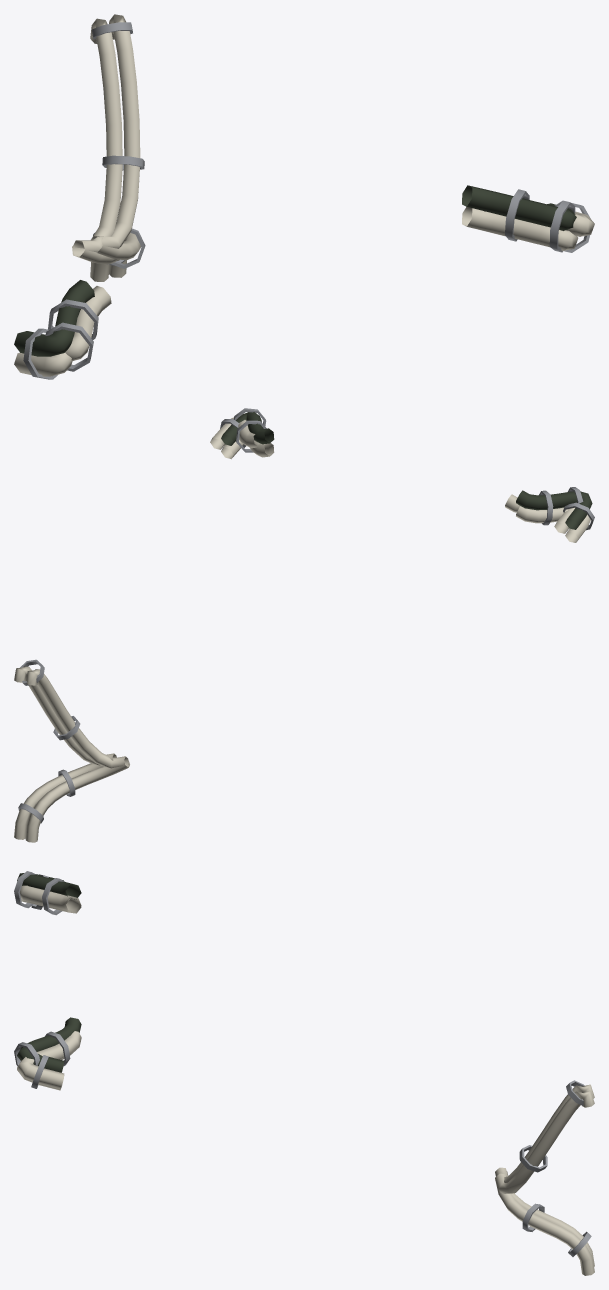
The model's file is s600_harness.obj.
The picture shows the model from 3 angles, top to bottom: view 1: azimuth 30°, elevation 25°; view 2: azimuth 150°, elevation 25°; view 3: azimuth 270°, elevation 25°; orthographic projection. The views are drawn at different scales.
Visible parts, largest first — view 1: s600_harness; view 2: s600_harness; view 3: s600_harness.
Part boxes in pixels (box(x1,y1,x2,y2)): s600_harness: box(14, 14, 594, 379); s600_harness: box(14, 408, 594, 842); s600_harness: box(14, 871, 594, 1275).
Bounding box in the file's own units: 1.64 × 0.986 × 2.05.
